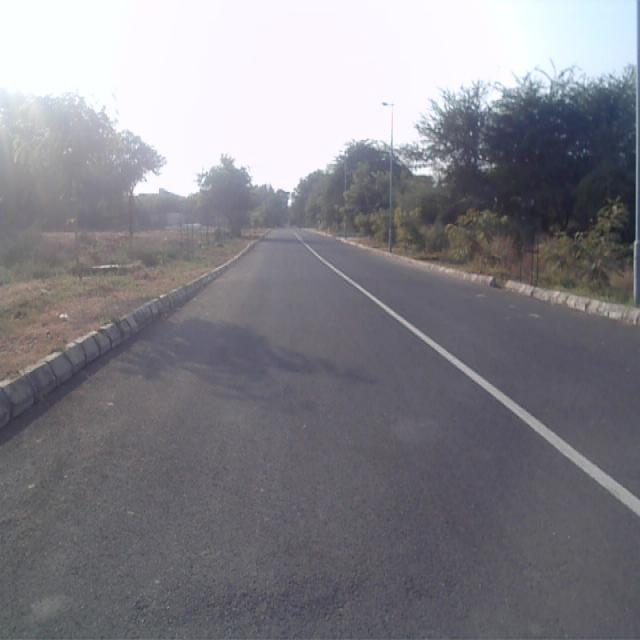lane: (0, 233, 640, 640)
